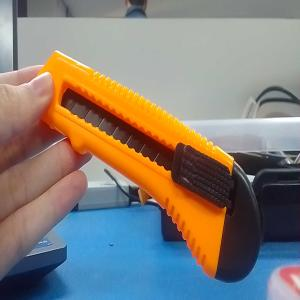estilete: (37, 49, 263, 284)
